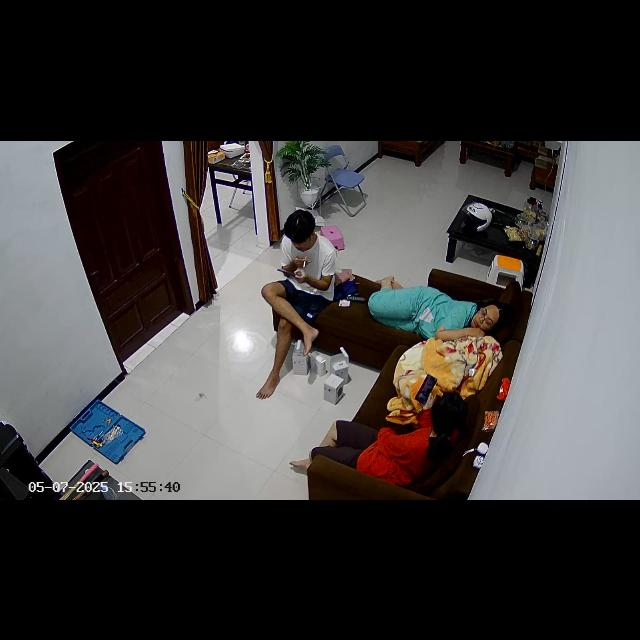rokok: (302, 255, 308, 267)
